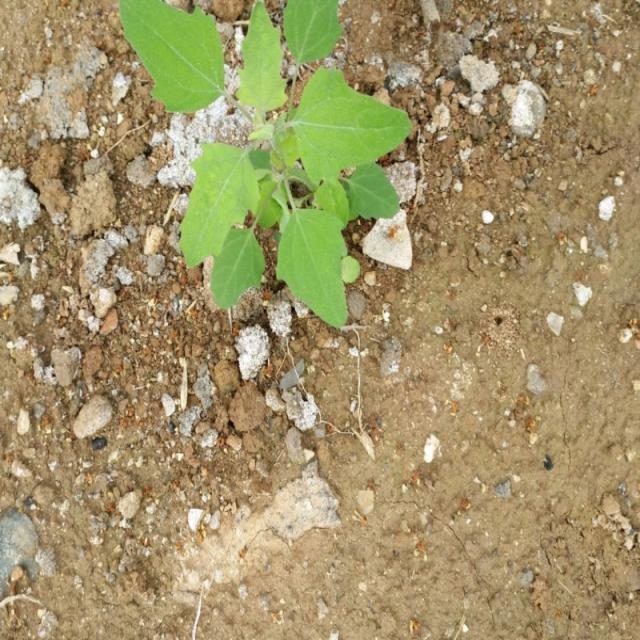ca: (116, 0, 411, 331)
